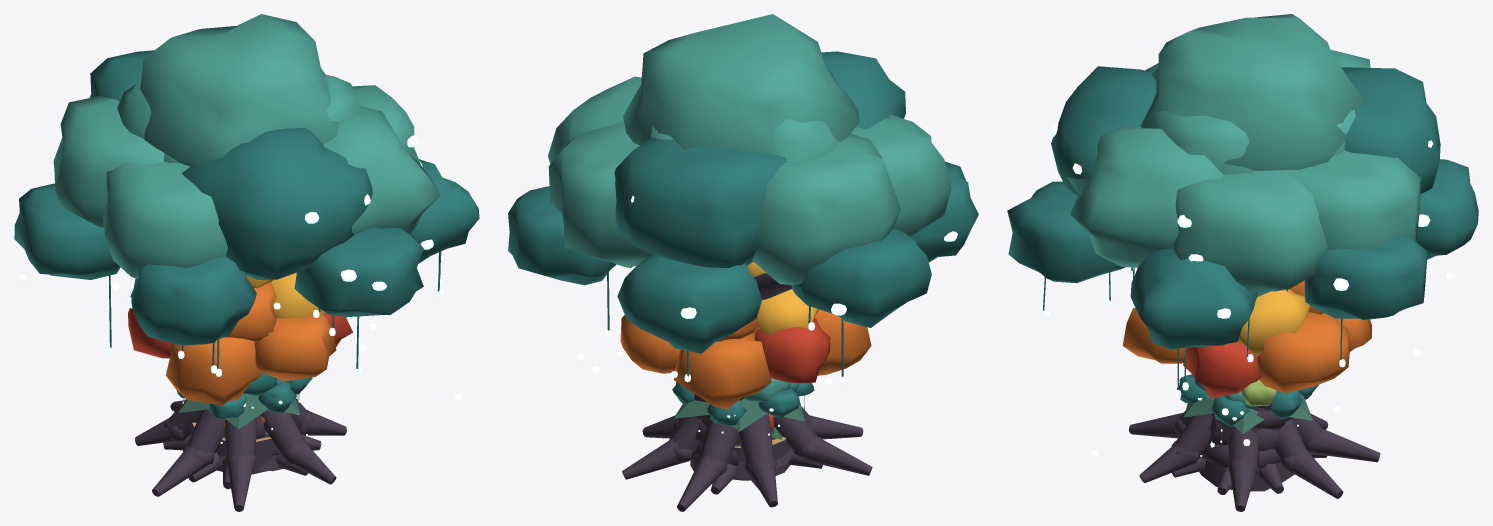
Rendered from trees.glb.
3 renders of one model, left to right at view 1: azimuth 30°, elevation 25°; view 2: azimuth 150°, elevation 25°; view 3: azimuth 270°, elevation 25°, orthographic. The views are drawn at different scales.
Parts seen in each view (by area): view 1: Tree_elderwood_mature, Tree_maple_mature, Tree_elderwood_sapling, Tree_elderwood_stump, Tree_cedar_mature; view 2: Tree_elderwood_mature, Tree_maple_mature, Tree_elderwood_sapling, Tree_elderwood_stump, Tree_cedar_mature; view 3: Tree_elderwood_mature, Tree_maple_mature, Tree_elderwood_sapling, Tree_elderwood_stump, Tree_cedar_mature, Tree_birch_mature.
Part boxes in pixels (x1,y1,x2,y2): Tree_elderwood_mature: (14,14,479,511); Tree_maple_mature: (128,272,352,405); Tree_elderwood_sapling: (174,373,312,443); Tree_elderwood_stump: (163,422,321,489); Tree_cedar_mature: (178,371,300,429); Tree_elderwood_mature: (508,14,978,511); Tree_maple_mature: (620,262,871,409); Tree_elderwood_sapling: (672,378,814,435); Tree_elderwood_stump: (690,436,822,494); Tree_cedar_mature: (674,396,804,431); Tree_elderwood_mature: (1007,14,1478,511); Tree_maple_mature: (1122,280,1371,398); Tree_elderwood_sapling: (1176,374,1319,456); Tree_elderwood_stump: (1172,445,1327,494); Tree_cedar_mature: (1184,393,1313,433); Tree_birch_mature: (1241,380,1277,406).
Bounding box in the file's own units: 8.37 × 8.73 × 8.53.
